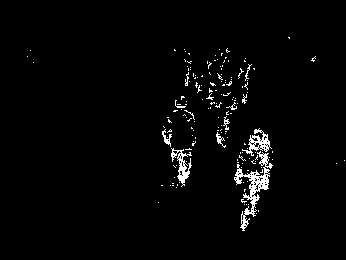person: (236, 127, 273, 235), (158, 89, 197, 188)
